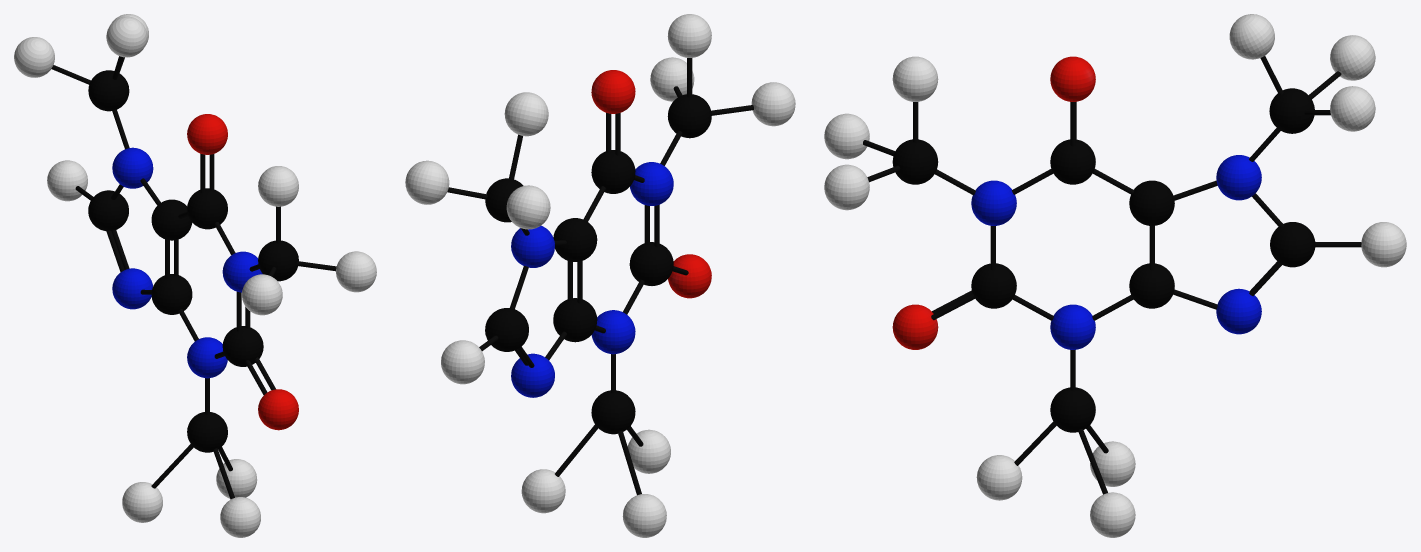
The model's file is CaffeineMolecule.fbx.
3 views of the same model, side by side, from view 1: azimuth 30°, elevation 25°; view 2: azimuth 150°, elevation 25°; view 3: azimuth 270°, elevation 25° (orthographic). The views are drawn at different scales.
Parts seen in each view (by area): view 1: CaffeineMolecule; view 2: CaffeineMolecule; view 3: CaffeineMolecule.
Boxes of the visible parts, x1,y1,x2,y2 form: CaffeineMolecule: [14, 14, 376, 537]; CaffeineMolecule: [405, 14, 795, 537]; CaffeineMolecule: [824, 14, 1406, 537].
Bounding box in the file's own units: 729 × 2392 × 2555.
